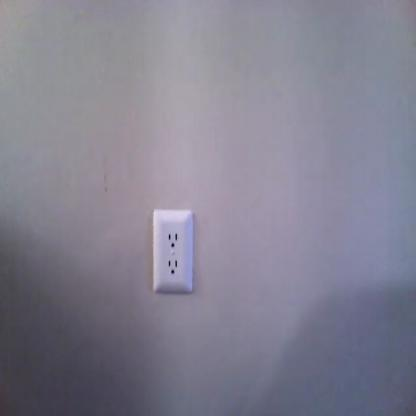OUTLET: (153, 208, 194, 294)
